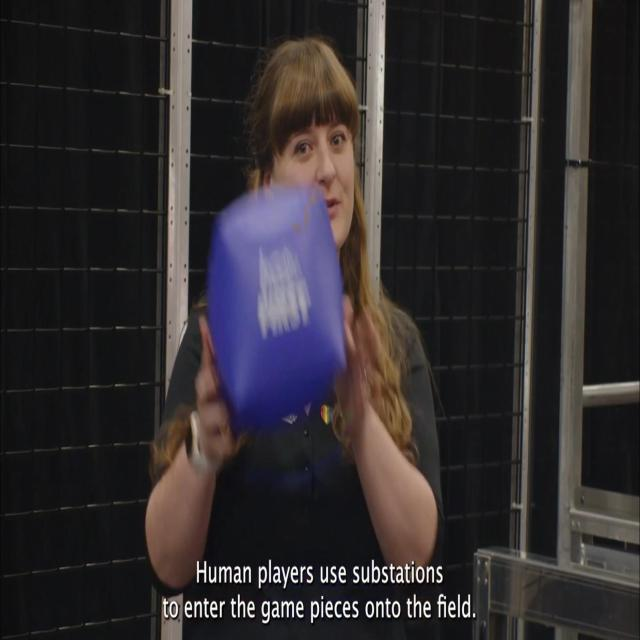frc_cube: (208, 187, 345, 434)
